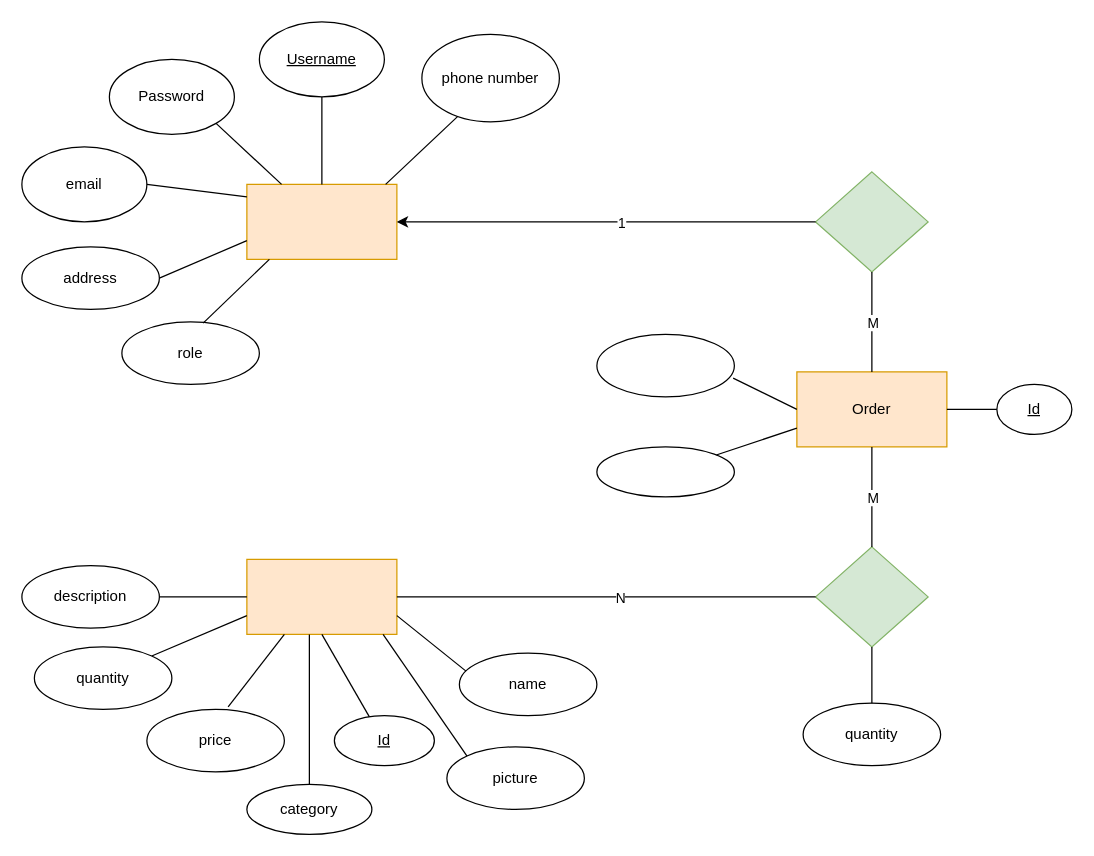
The diagram is 1094 pixels wide and 856 high, and some of its shapes have lost their labels. Each missing label, with the centre of its shape:
Contains: point 871,596
creation_date: point 665,365
Orders: point 871,221
Product: point 321,596
status: point 665,471
User: point 321,221
